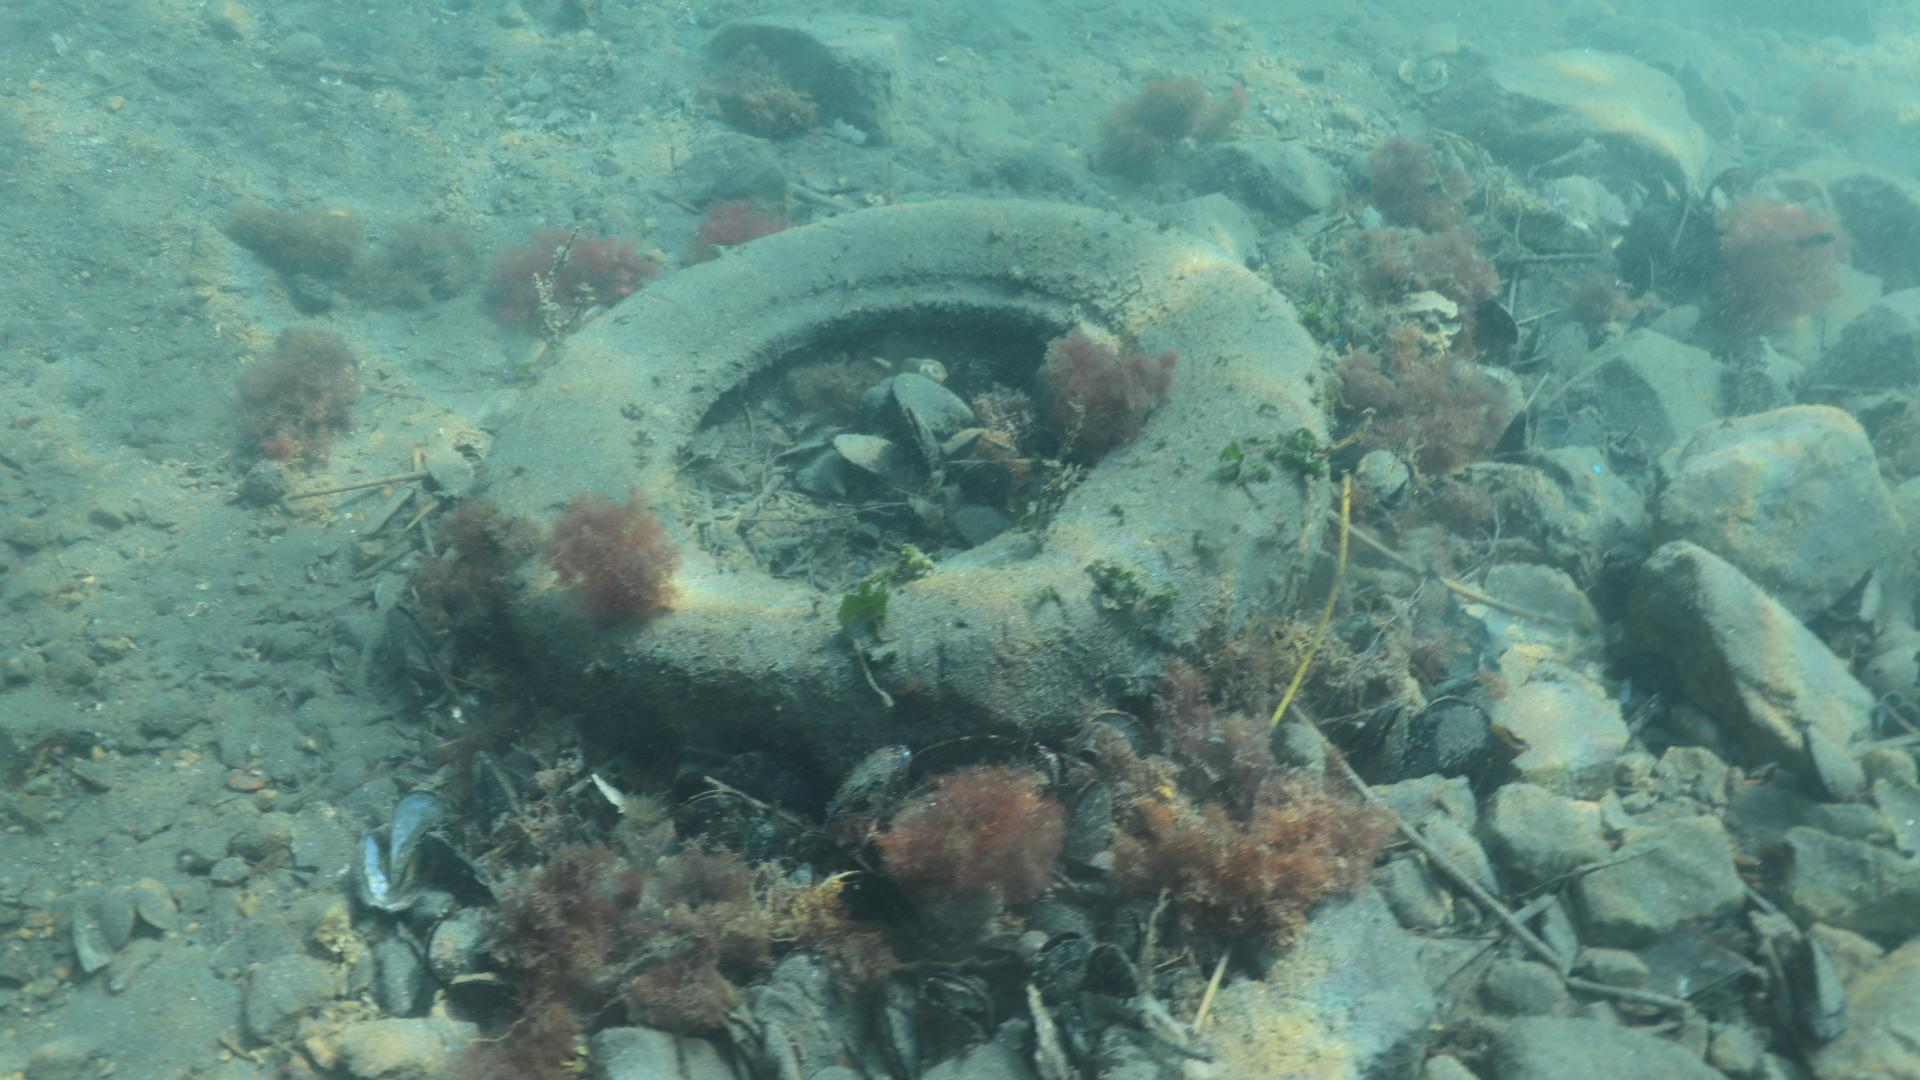tire: (471, 196, 1331, 806)
